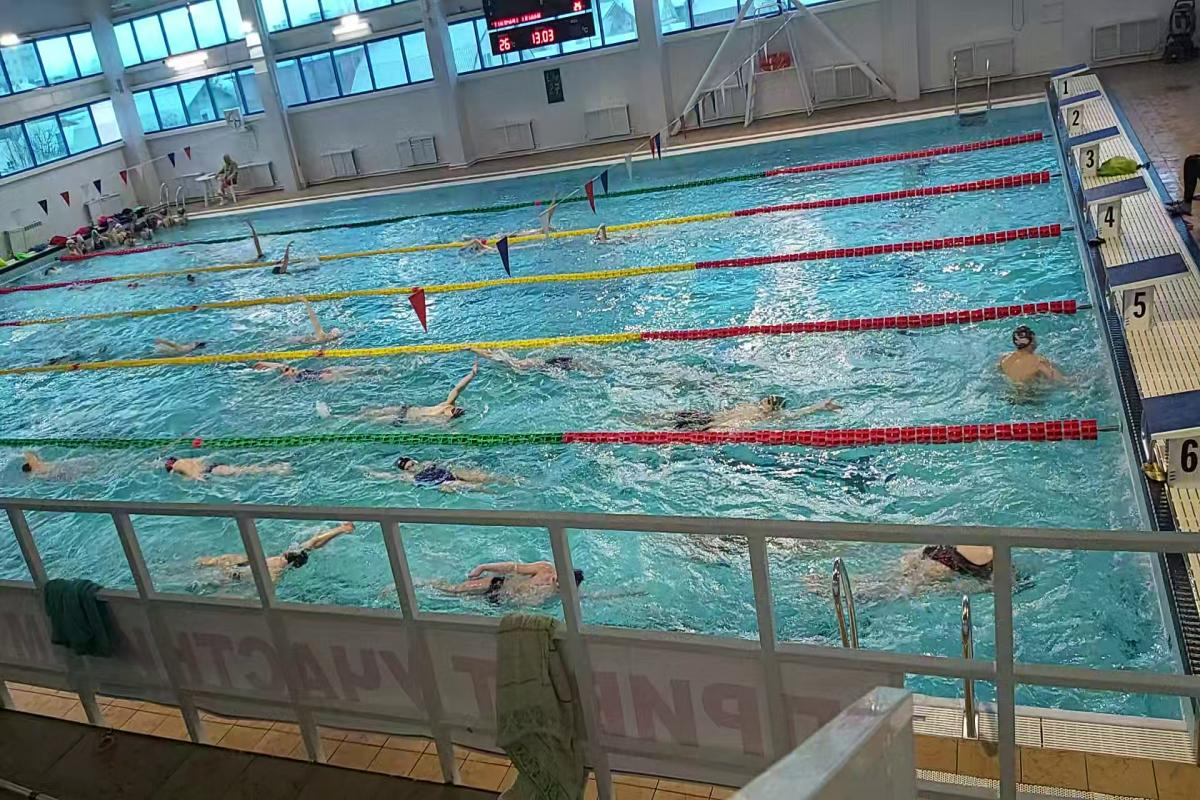swimmer: (372, 446, 540, 498), (649, 386, 847, 430), (318, 383, 484, 432), (866, 544, 990, 606), (437, 552, 555, 610), (1003, 316, 1078, 405), (166, 449, 306, 488), (253, 348, 366, 388), (270, 536, 355, 578), (7, 452, 87, 484), (295, 302, 355, 343), (141, 334, 218, 359), (271, 245, 305, 276)
